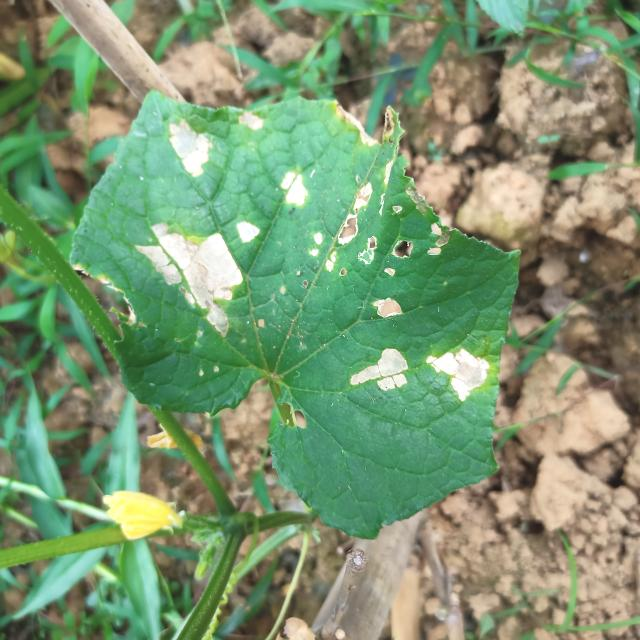disease_cucumber: (132, 105, 308, 341), (314, 167, 438, 326), (332, 330, 496, 413)
